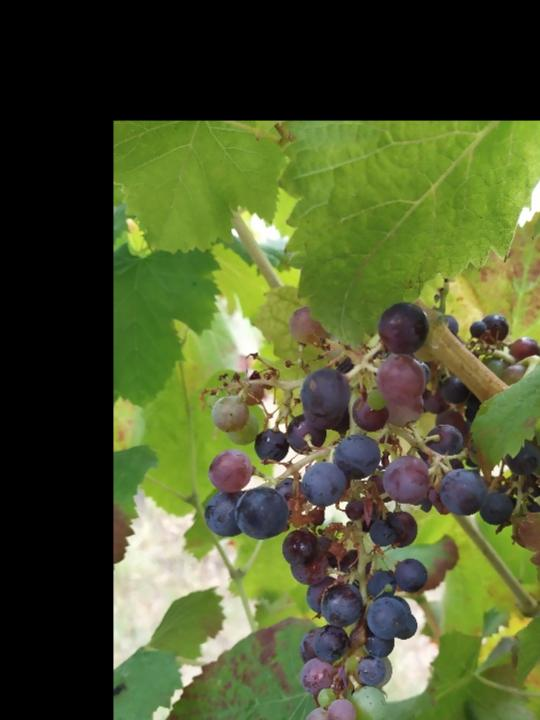grape: (190, 303, 540, 720)
